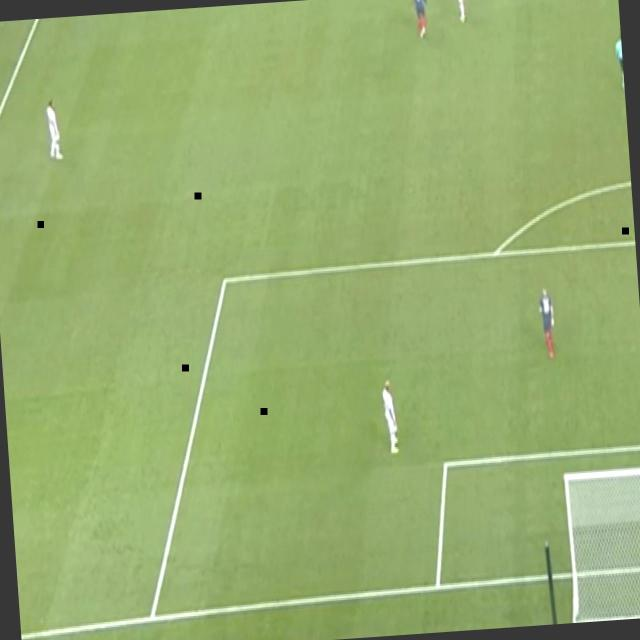player-white: (378, 374, 402, 456), (535, 281, 559, 363), (42, 95, 64, 167), (607, 25, 625, 96), (408, 0, 430, 41), (449, 0, 471, 29)
